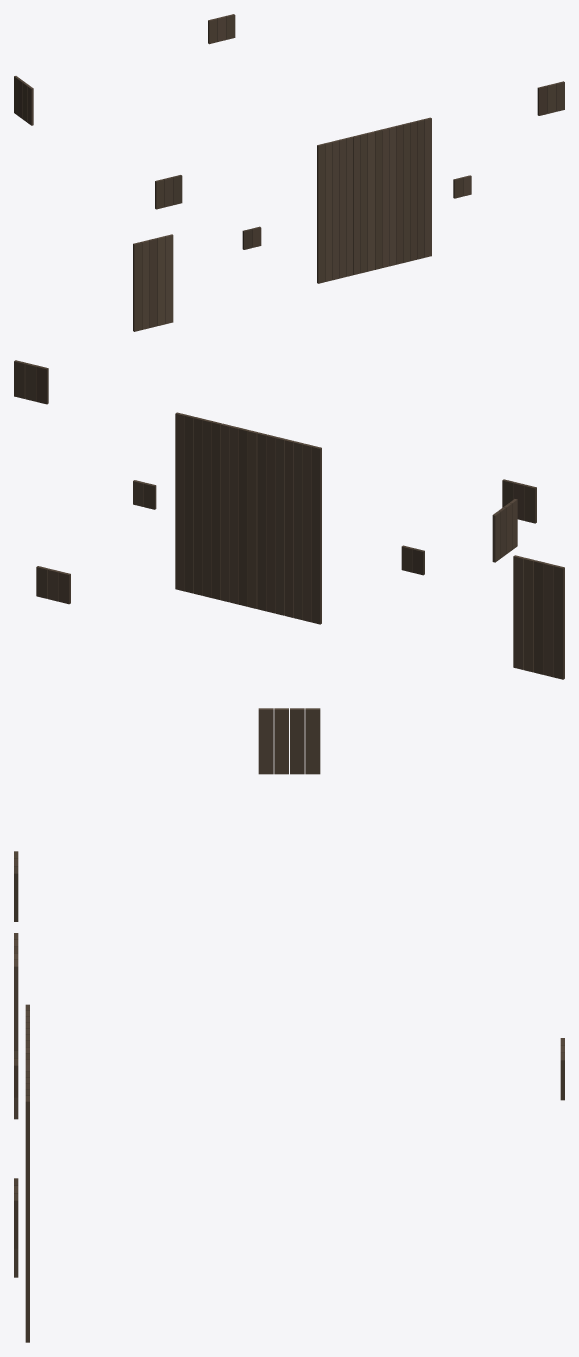
File: SM_Bld_008_Wood.glb
3 renders of one model, top to bottom at view 1: azimuth 30°, elevation 25°; view 2: azimuth 150°, elevation 25°; view 3: azimuth 270°, elevation 25°, orthographic. The views are drawn at different scales.
Visible parts, largest first — view 1: SM_Bld_008_Wood; view 2: SM_Bld_008_Wood; view 3: SM_Bld_008_Wood.
Part boxes in pixels (x1=…): SM_Bld_008_Wood: x1=14, y1=14, x2=564, y2=331; SM_Bld_008_Wood: x1=14, y1=360, x2=564, y2=679; SM_Bld_008_Wood: x1=14, y1=708, x2=564, y2=1342.
Size of the model in its own units: 10.57 by 4.35 by 6.22.
